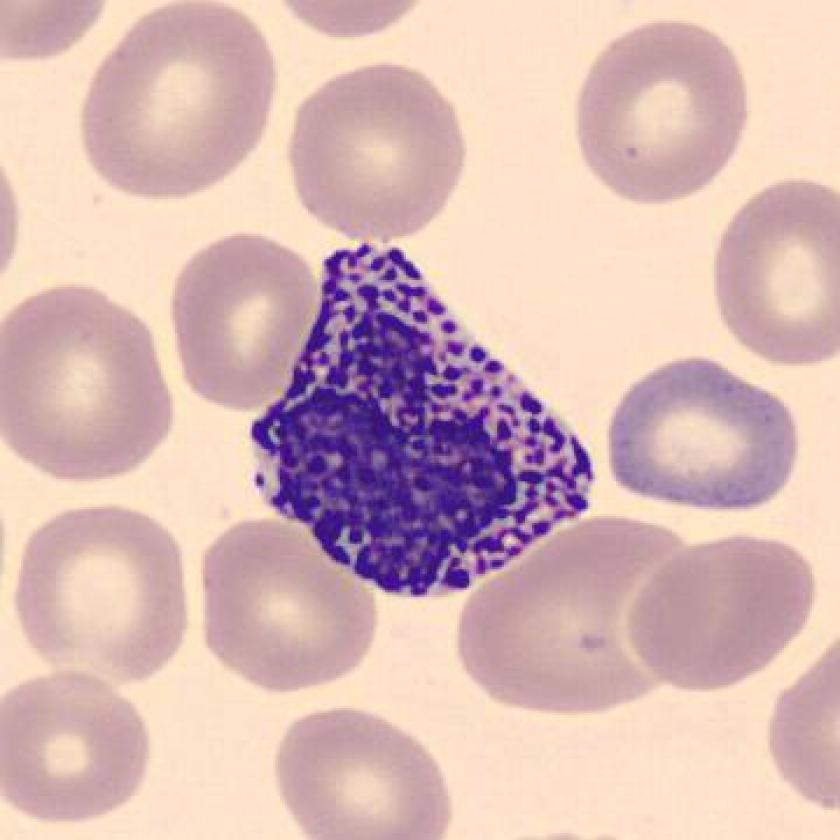basophil: (255, 232, 603, 596)
